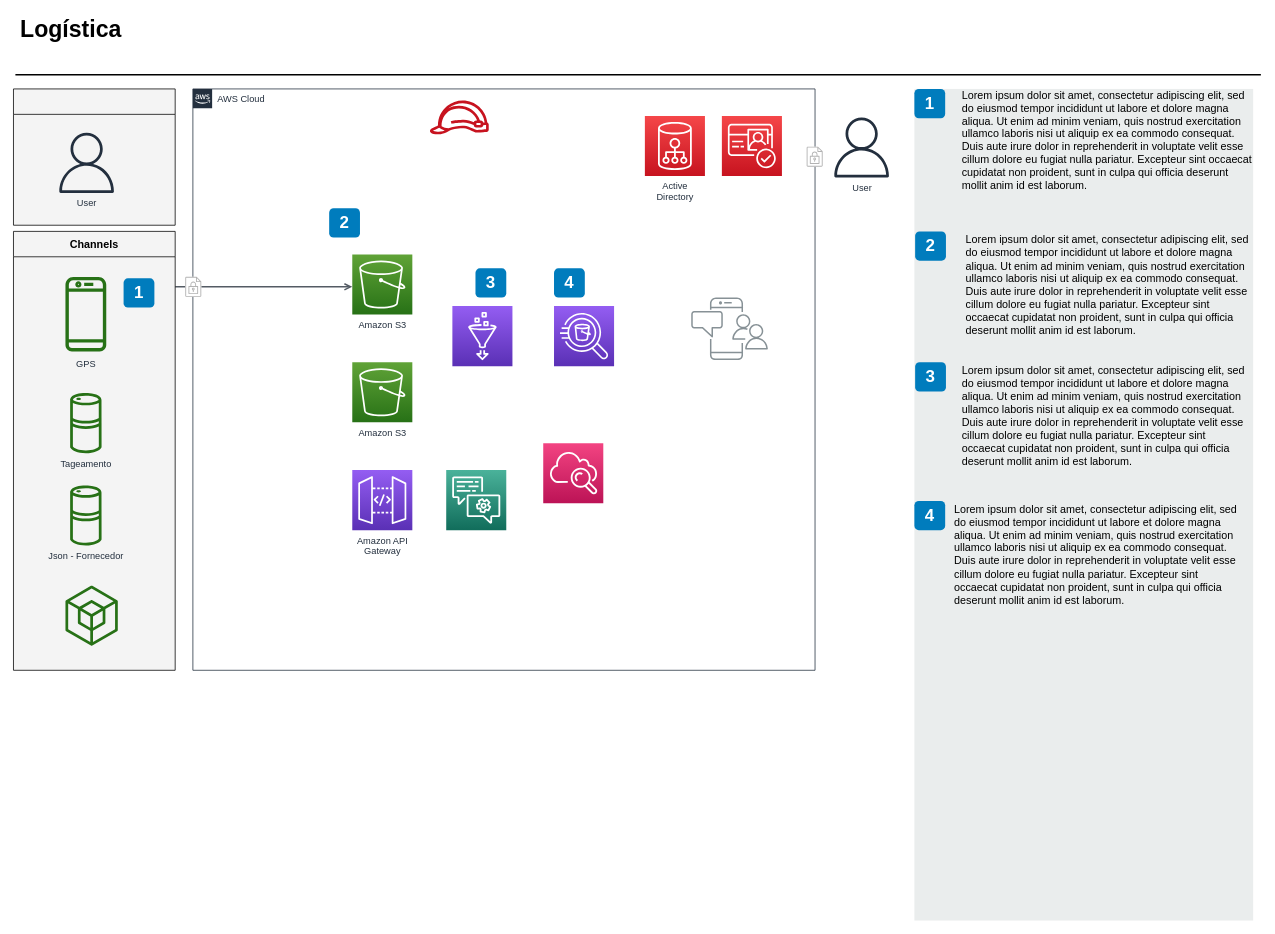
This 1275x934 diagram has some shape labels left out. The shapes that lost their labels are listed below. From the top down, each one's box as (x1, y1, x2, y2) in pixels, then its label:
(429, 100, 489, 134): IAM Roles
(13, 88, 175, 225): Actors
(721, 115, 782, 176): Amazon Cognito
(452, 305, 512, 366): AWS Glue
(553, 305, 614, 366): Amazon Athena
(691, 297, 768, 360): data lake console
(542, 442, 603, 503): Amazon CloudWatch
(445, 469, 506, 530): RDS
(65, 585, 117, 645): API
